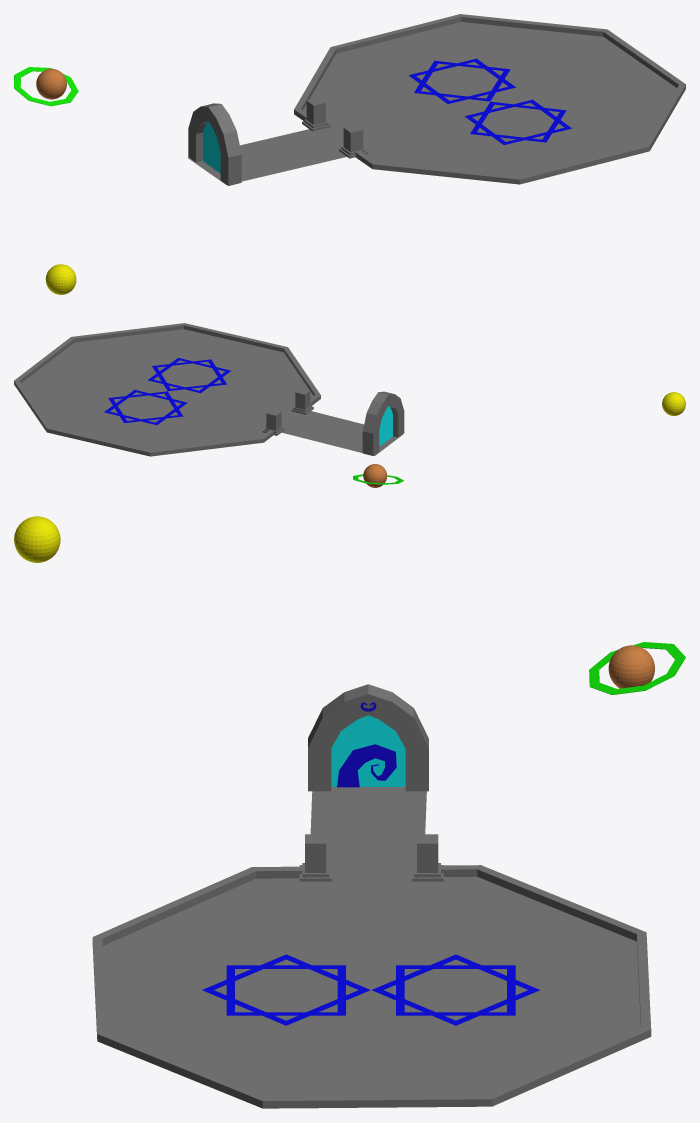
File: Scenario_Novo.fbx
3 renders of one model, top to bottom at view 1: azimuth 30°, elevation 25°; view 2: azimuth 150°, elevation 25°; view 3: azimuth 270°, elevation 25°, orthographic. The views are drawn at different scales.
Parts seen in each view (by area): view 1: Circle, Cube.002, Cube, Plane.004, Plane.003, Sphere, Sphere.001, Cone, Plane.001, Plane.002, Plane; view 2: Circle, Cube.002, Cube, Plane.003, Plane.004, Sphere.001, Sphere, Plane.002, Plane.001, Plane; view 3: Circle, Cube.002, Plane, Cube, Plane.003, Plane.004, Sphere.001, Sphere, Plane.005, Cone, Plane.002, Plane.001.
Part boxes in pixels (box(x1,y1,x2,y2)): Circle: box(187, 14, 685, 184); Cube.002: box(188, 103, 241, 185); Cube: box(302, 97, 367, 158); Plane.004: box(414, 60, 510, 101); Plane.003: box(470, 101, 566, 142); Sphere: box(36, 68, 66, 99); Sphere.001: box(45, 264, 76, 294); Cone: box(14, 67, 78, 106); Plane.001: box(465, 99, 571, 144); Plane.002: box(409, 58, 515, 103); Plane: box(203, 122, 220, 173); Circle: box(14, 323, 402, 456); Cube.002: box(362, 391, 404, 455); Cube: box(262, 388, 313, 435); Plane.003: box(152, 359, 226, 391); Plane.004: box(108, 391, 183, 423); Sphere.001: box(662, 392, 685, 415); Sphere: box(363, 464, 387, 487); Plane.002: box(104, 389, 187, 424); Plane.001: box(148, 358, 231, 393); Plane: box(379, 406, 392, 446); Circle: box(92, 787, 651, 1108); Cube.002: box(308, 684, 428, 791); Plane: box(331, 715, 405, 786); Cube: box(299, 834, 443, 881); Plane.003: box(202, 954, 370, 1025); Plane.004: box(372, 954, 539, 1025); Sphere.001: box(14, 516, 60, 562); Sphere: box(608, 645, 654, 688); Plane.005: box(337, 744, 396, 787); Cone: box(589, 642, 685, 694); Plane.002: box(396, 965, 515, 1015); Plane.001: box(226, 965, 345, 1015).
Size of the model in its own units: 5339 by 488 by 2881.
